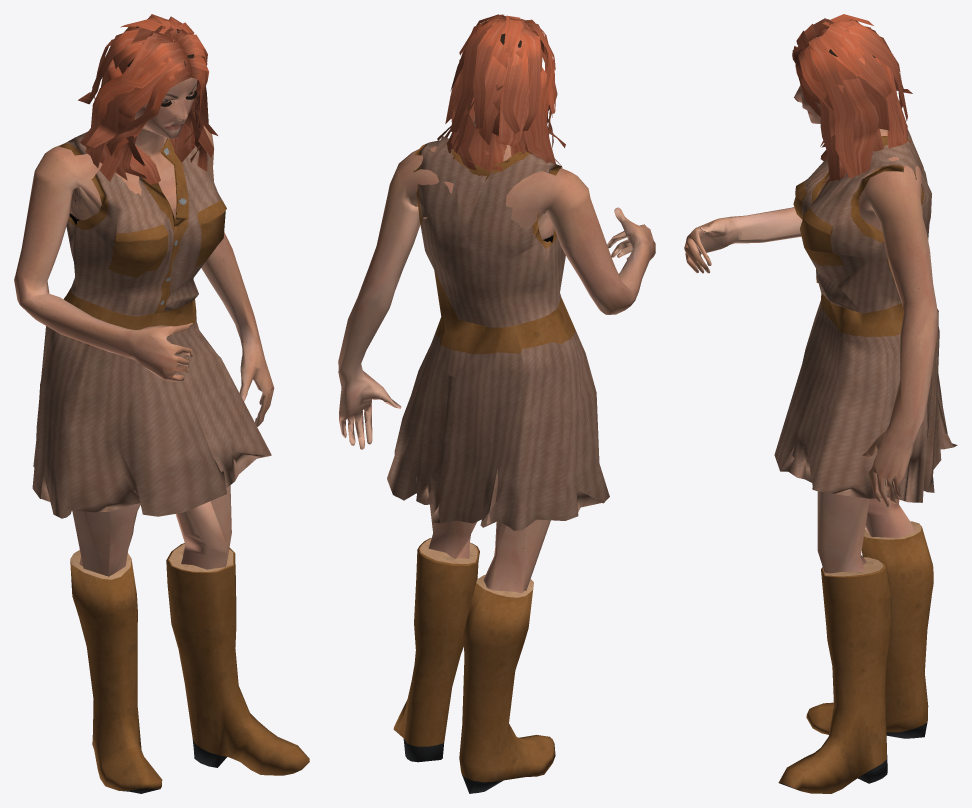
Rendered from woman.fbx.
3 renders of one model, left to right at view 1: azimuth 30°, elevation 25°; view 2: azimuth 150°, elevation 25°; view 3: azimuth 270°, elevation 25°, orthographic. The views are drawn at different scales.
Visible parts, largest first — view 1: woman; view 2: woman; view 3: woman.
Boxes of the visible parts, x1,y1,x2,y2 form: woman: (14, 14, 309, 793); woman: (338, 14, 655, 793); woman: (684, 14, 957, 793).
Bounding box in the file's own units: 73.67 × 196 × 67.06.
4 materials, 4 textured.
